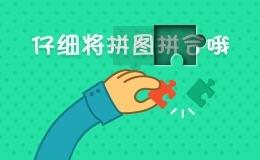target: (133, 5, 175, 45)
